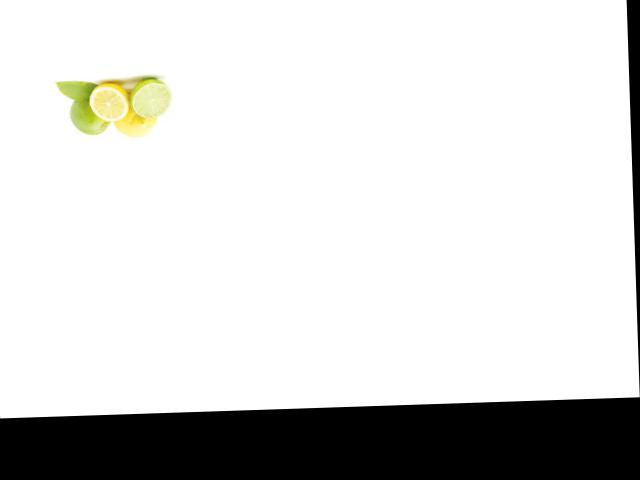lemon: (113, 104, 158, 141)
